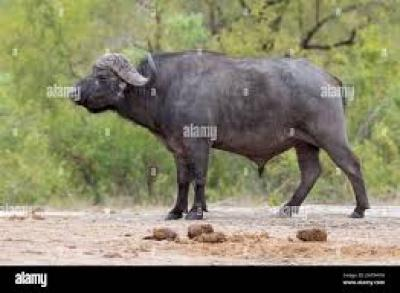buffalo: (66, 50, 369, 219)
